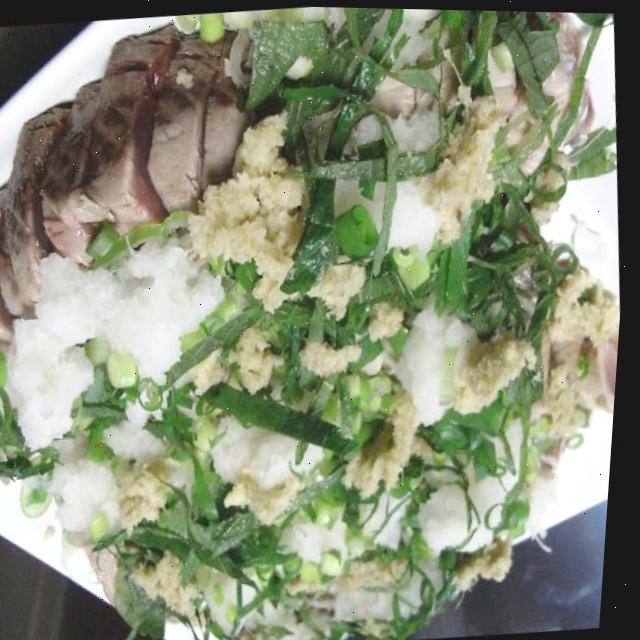熟制海鲜: (0, 39, 638, 640)
